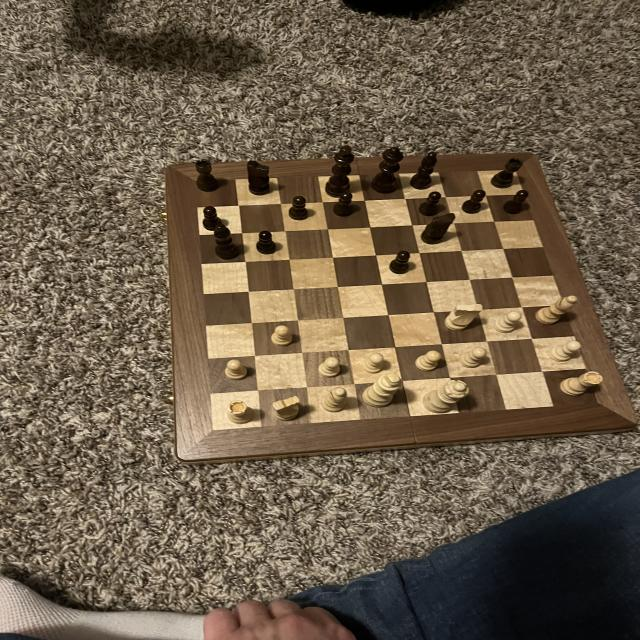bishop: (212, 223, 244, 263), (408, 151, 438, 190)
black-bishop: (324, 144, 364, 199)
black-king: (419, 211, 458, 249), (244, 157, 276, 199)
black-knight: (416, 190, 446, 218), (501, 188, 531, 216), (253, 226, 280, 257), (459, 188, 490, 215), (387, 250, 414, 278), (330, 192, 357, 219), (200, 204, 223, 232), (288, 195, 311, 221)
black-pawn: (369, 146, 405, 197)
black-queen: (488, 156, 525, 190), (192, 158, 224, 192)
black-rook: (532, 294, 578, 327), (319, 386, 353, 414)
white-bishop: (360, 372, 408, 408)
white-king: (442, 302, 486, 333), (271, 394, 304, 424)
white-knight: (547, 339, 584, 364), (456, 346, 491, 370), (492, 310, 524, 336), (358, 352, 391, 376), (268, 322, 297, 348), (412, 349, 444, 372), (222, 358, 249, 382), (316, 356, 342, 379)
white-pawn: (417, 377, 473, 416)
white-queen: (557, 368, 605, 399), (224, 399, 257, 426)
